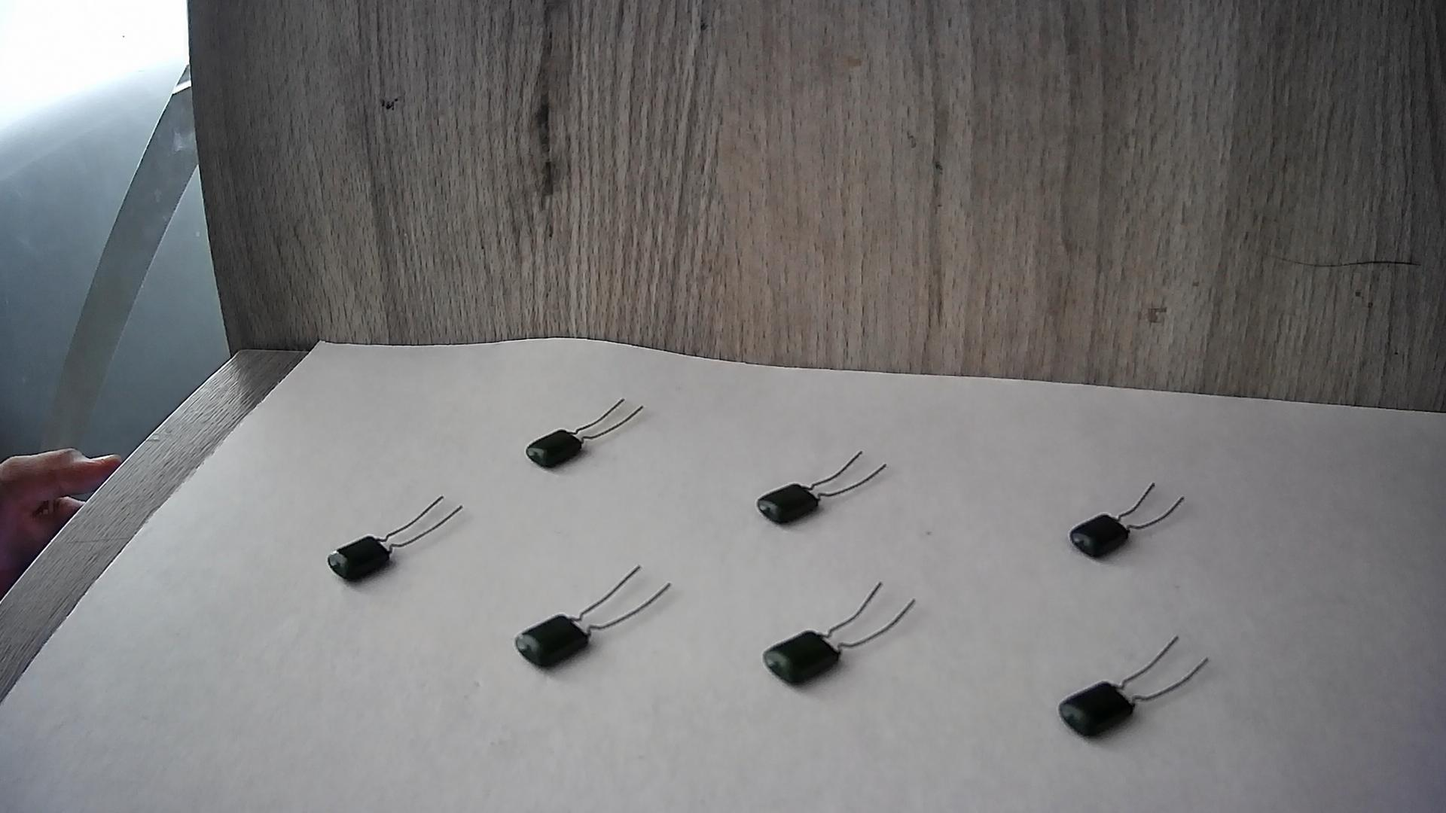capacitor ceramico: (740, 569, 951, 704), (1036, 619, 1230, 754), (507, 536, 685, 679), (725, 418, 908, 549), (1041, 451, 1220, 581), (318, 473, 471, 604), (494, 363, 667, 478)
